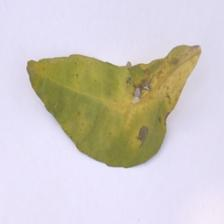black spot: (115, 34, 184, 132)
